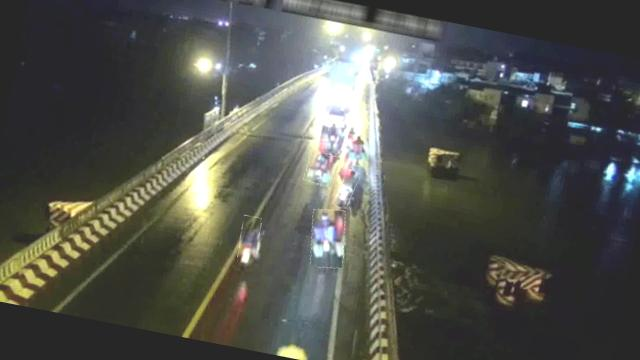Bike: (304, 206, 352, 271), (304, 149, 341, 187), (236, 214, 264, 264), (334, 168, 360, 210), (344, 134, 373, 168), (324, 123, 338, 150)
